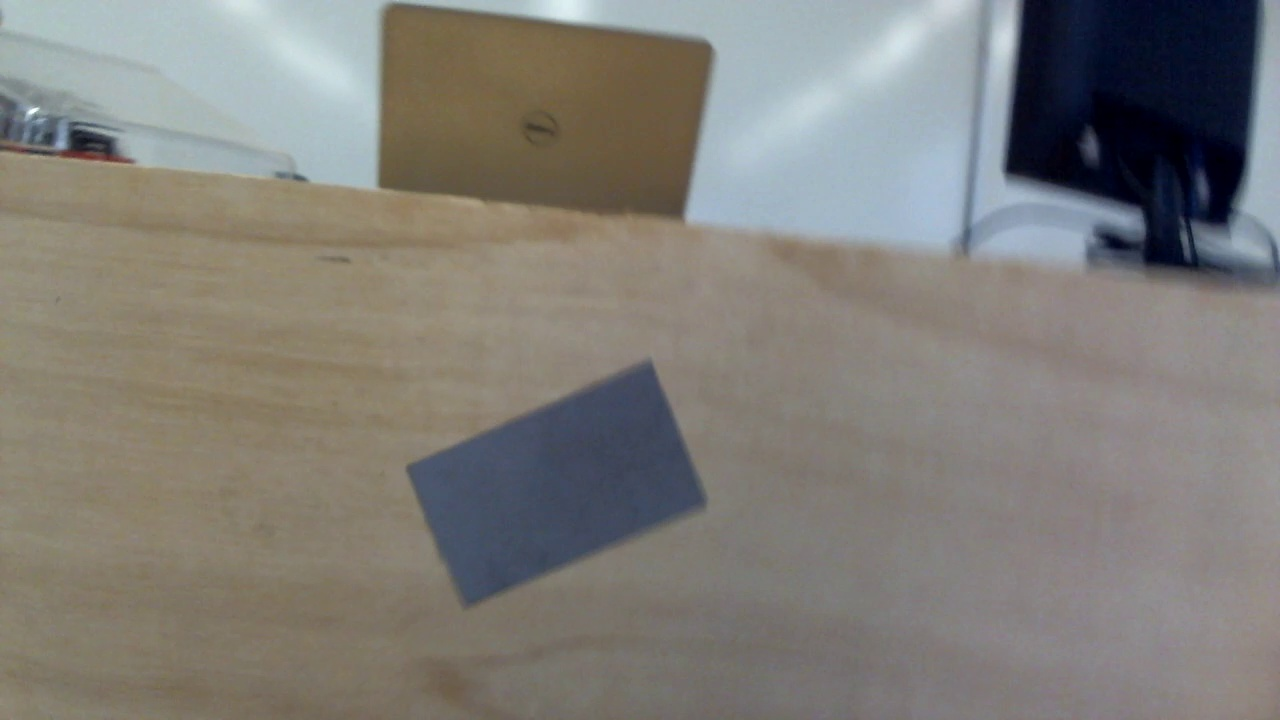Tape: (405, 359, 710, 608)
